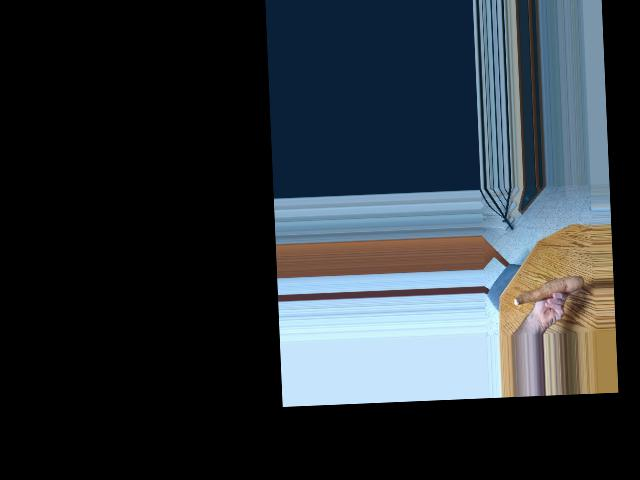sweet_potato: (510, 271, 582, 306)
